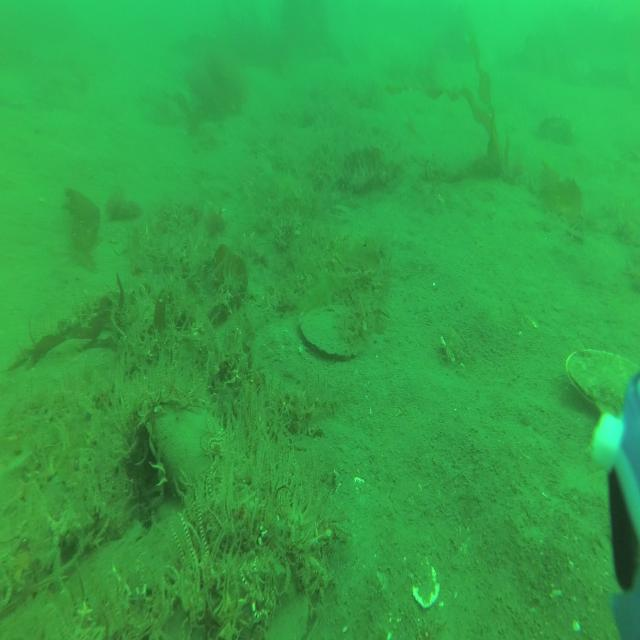scallop: (565, 345, 640, 419), (300, 306, 356, 358)
